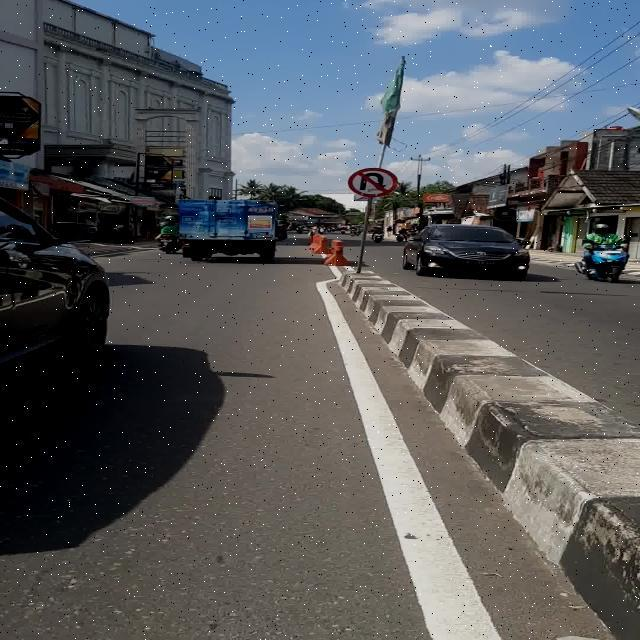Dilarang Putar Balik: (348, 168, 398, 198)
